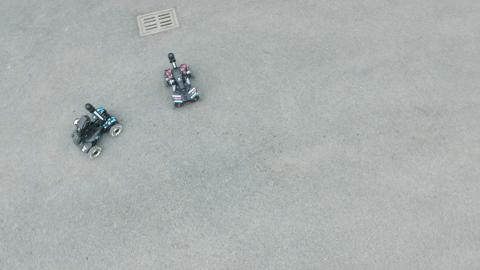chariot: (74, 100, 121, 159), (159, 53, 201, 108)
